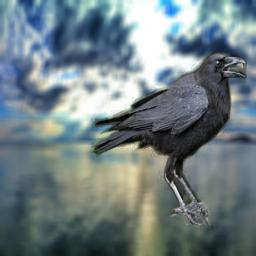Crow: (91, 52, 247, 225)
